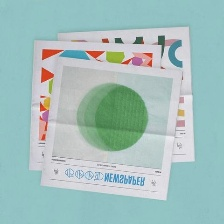news_paper: (38, 52, 184, 201), (53, 22, 200, 164), (25, 36, 167, 173)
